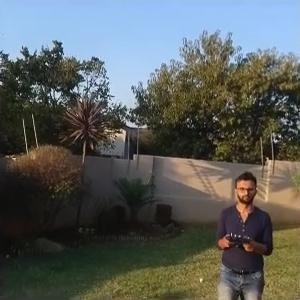follow: (213, 169, 272, 299)
